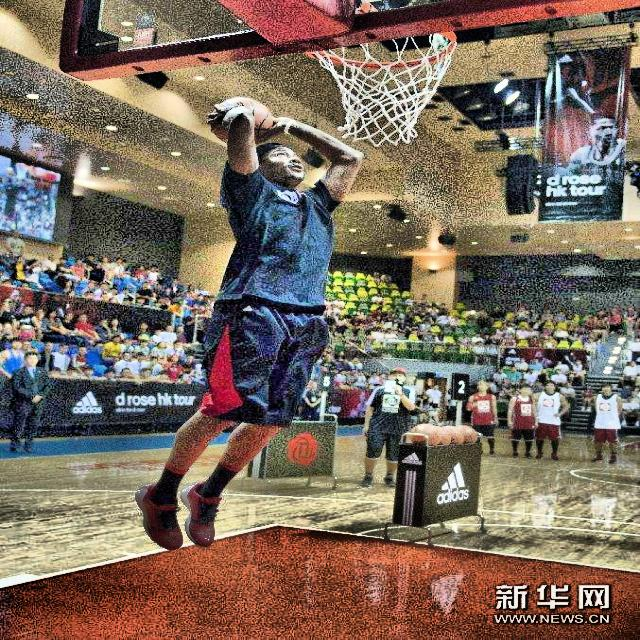board: (208, 93, 276, 147)
rim: (306, 25, 458, 143)
